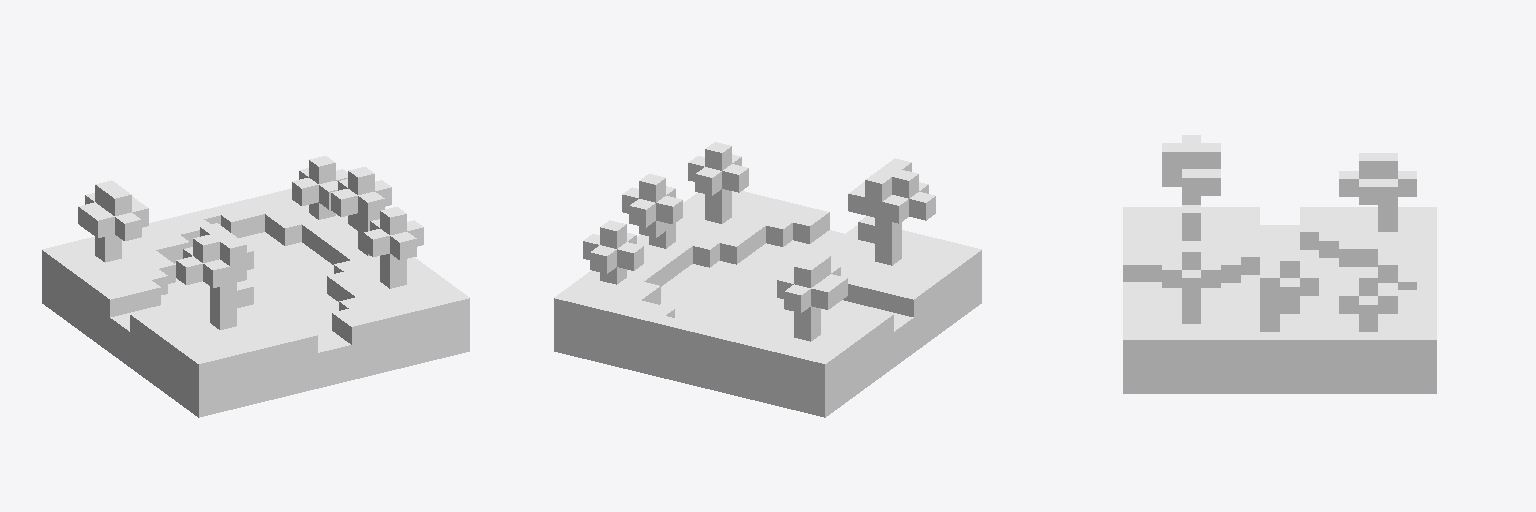
The model's file is corner.obj.
3 views of the same model, side by side, from view 1: azimuth 30°, elevation 25°; view 2: azimuth 150°, elevation 25°; view 3: azimuth 270°, elevation 25° (orthographic).
Parts seen in each view (by area): view 1: RiverCorner1; view 2: RiverCorner1; view 3: RiverCorner1.
Part boxes in pixels (x1,y1,x2,y2): RiverCorner1: (42,156,469,417); RiverCorner1: (554,142,981,417); RiverCorner1: (1123,135,1436,393).
Bounding box in the file's own units: 16 × 8 × 16.